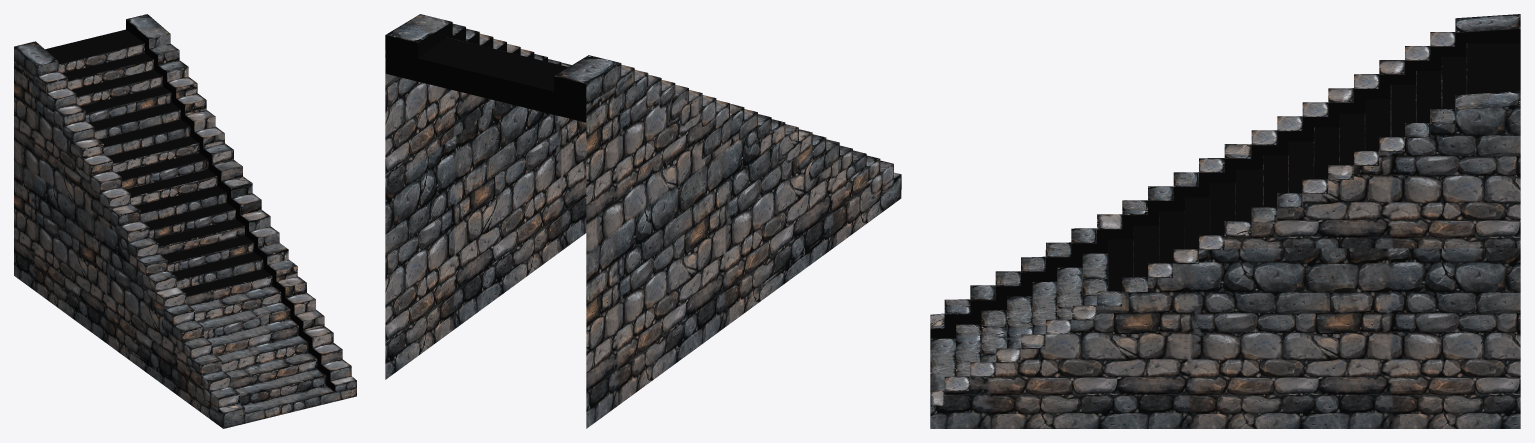
The model's file is CryptStair.fbx.
The picture shows the model from 3 angles, left to right: view 1: azimuth 30°, elevation 25°; view 2: azimuth 150°, elevation 25°; view 3: azimuth 270°, elevation 25°; orthographic projection. The views are drawn at different scales.
Visible parts, largest first — view 1: CryptStair.001; view 2: CryptStair.001; view 3: CryptStair.001.
Part boxes in pixels (<box>): CryptStair.001: <box>14,14,356,428</box>; CryptStair.001: <box>385,14,901,428</box>; CryptStair.001: <box>930,14,1520,428</box>.
Size of the model in its own units: 292 by 479 by 793.
